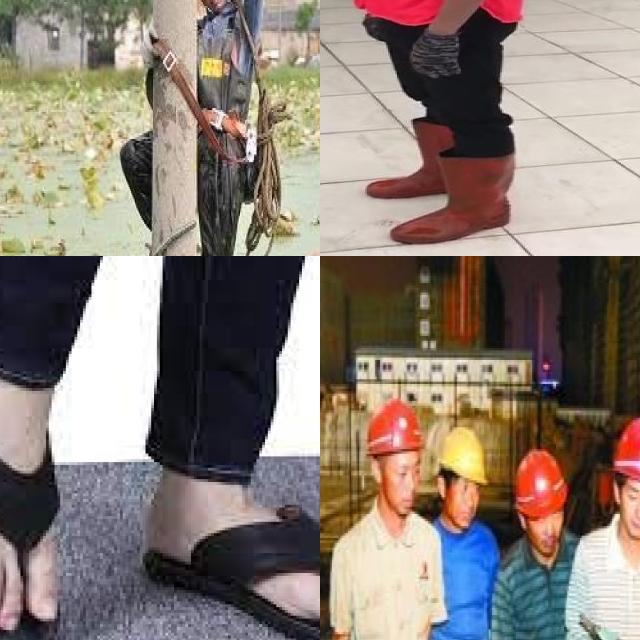No_Ear-Protection: (366, 438, 426, 509), (434, 458, 480, 525), (608, 461, 640, 533)
Sandals: (141, 451, 320, 640), (0, 279, 65, 640)
boots: (362, 112, 490, 203), (392, 152, 514, 246)
person: (330, 0, 546, 256)
